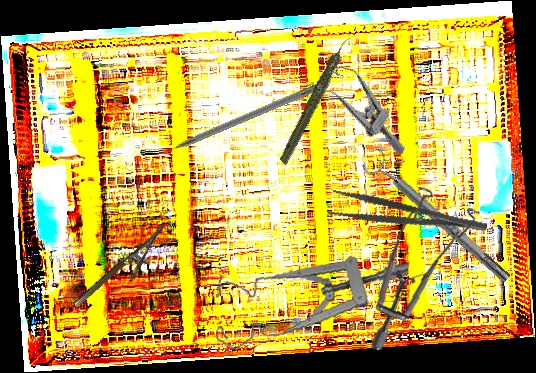Dressing Forceps: (327, 186, 489, 249)
Fixation Ring: (359, 146, 517, 291)
Handpiece: (256, 34, 378, 167)
Hook Surgical: (152, 77, 330, 160)
Needle Holder: (72, 224, 177, 320)
Speculum: (209, 236, 409, 372), (367, 186, 484, 350), (300, 52, 427, 156)
